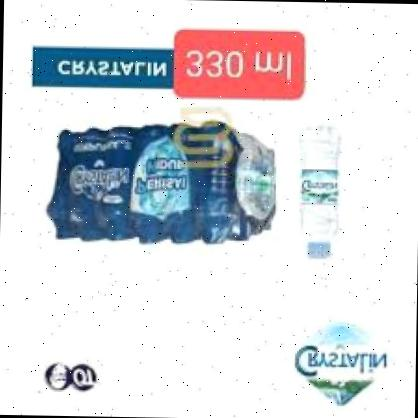bottle: (293, 117, 362, 270)
cap: (305, 240, 335, 262)
label: (299, 167, 344, 206)
